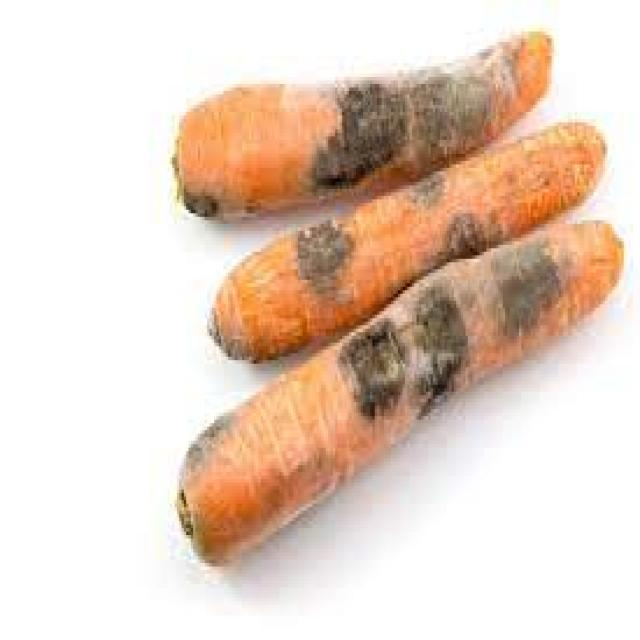Stale_Carrot: (179, 207, 631, 550), (209, 116, 612, 369), (172, 34, 548, 209)
